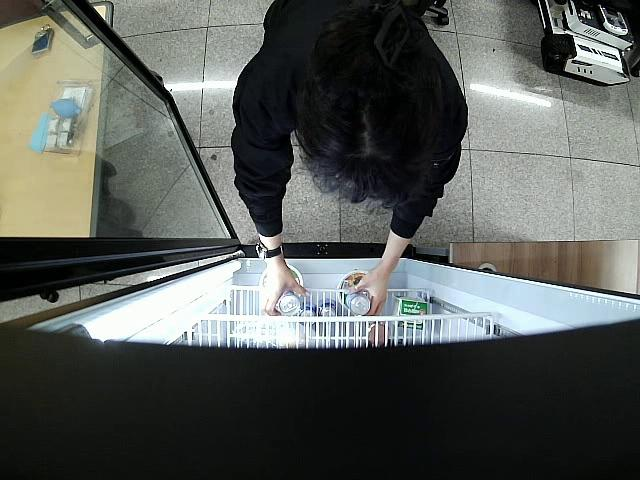00_hand: (261, 275, 312, 316), (351, 269, 389, 316)
15_letsbe: (276, 290, 303, 317), (344, 291, 371, 316)
